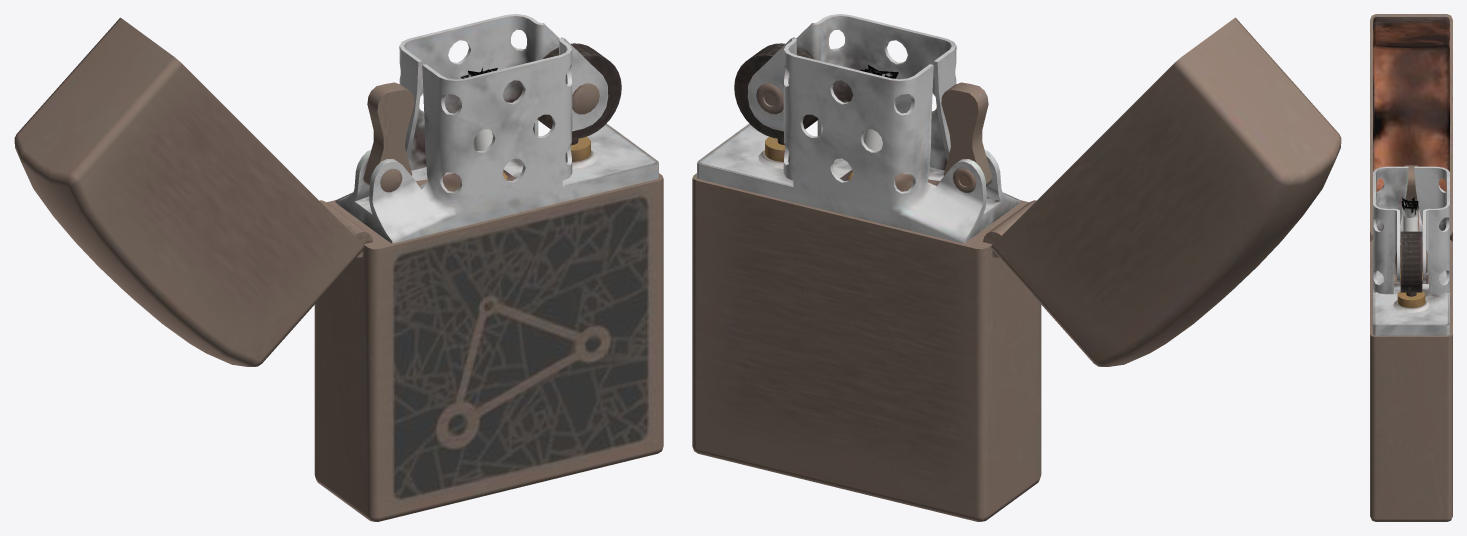
Rendered from vintage_lighter.glb.
The picture shows the model from 3 angles, left to right: view 1: azimuth 30°, elevation 25°; view 2: azimuth 150°, elevation 25°; view 3: azimuth 270°, elevation 25°; orthographic projection. The views are drawn at different scales.
Visible parts, largest first — view 1: vintage_lighter_body, vintage_lighter_hinge, vintage_lighter_hammer, vintage_lighter_flintstone; view 2: vintage_lighter_body, vintage_lighter_hinge, vintage_lighter_hammer, vintage_lighter_flintstone; view 3: vintage_lighter_body, vintage_lighter_hinge, vintage_lighter_flintstone, vintage_lighter_hammer.
Part boxes in pixels (x1,y1,x2,y2): vintage_lighter_body: (314, 14, 663, 521); vintage_lighter_hinge: (14, 17, 372, 366); vintage_lighter_hammer: (363, 82, 414, 192); vintage_lighter_flintstone: (537, 43, 621, 138); vintage_lighter_body: (692, 14, 1041, 521); vintage_lighter_hinge: (983, 17, 1341, 366); vintage_lighter_hammer: (941, 82, 992, 192); vintage_lighter_flintstone: (734, 43, 818, 138); vintage_lighter_body: (1370, 166, 1452, 521); vintage_lighter_hinge: (1370, 14, 1452, 241); vintage_lighter_flintstone: (1395, 231, 1427, 292); vintage_lighter_hammer: (1404, 165, 1418, 225).
Size of the model in its own units: 0.0796 by 0.065 by 0.014.
Materials: 2 (2 with a texture image).
